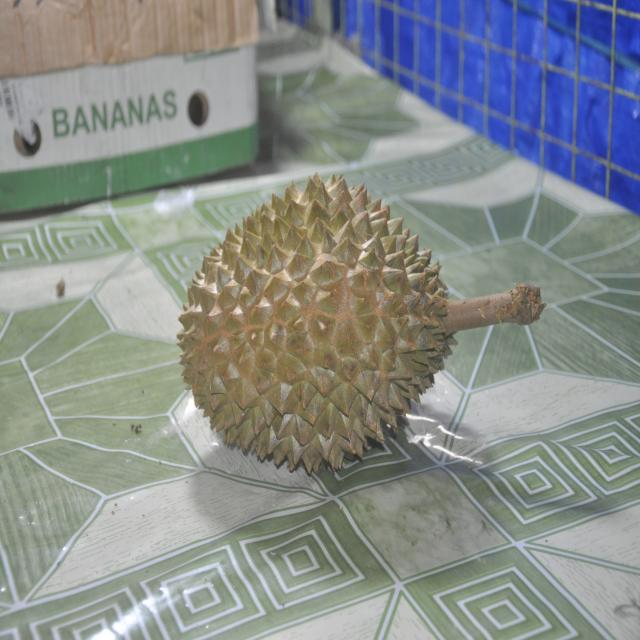mature: (178, 174, 545, 473)
